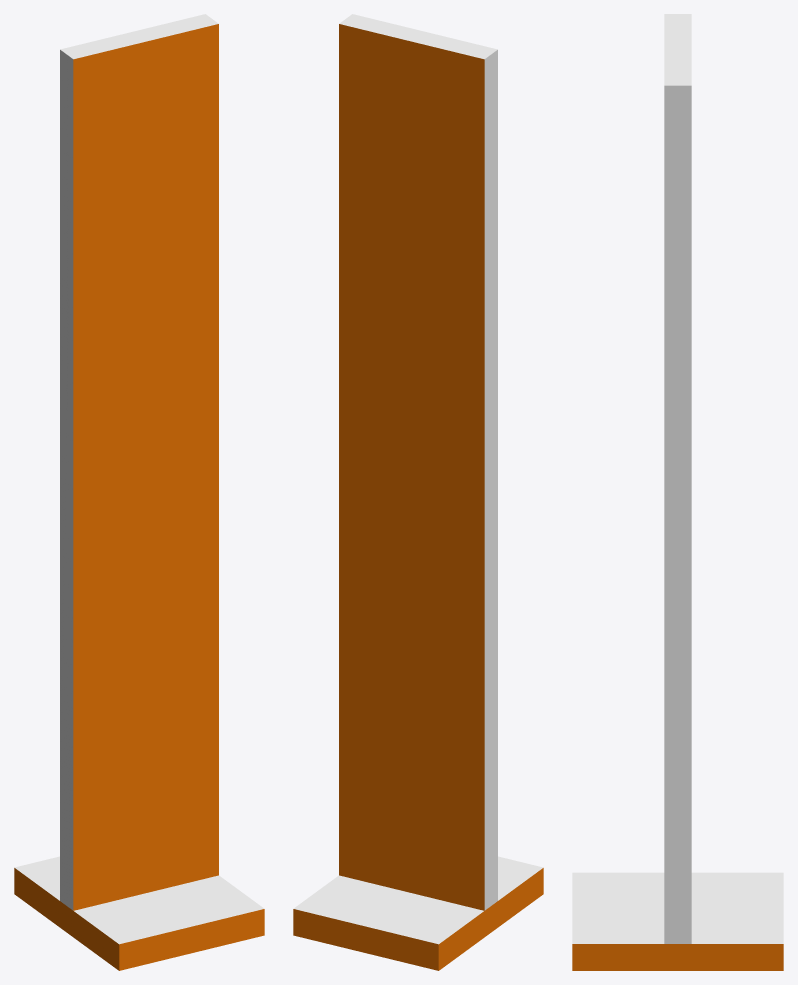
File: StripConeBase.fbx
3 views of the same model, side by side, from view 1: azimuth 30°, elevation 25°; view 2: azimuth 150°, elevation 25°; view 3: azimuth 270°, elevation 25° (orthographic).
Visible parts, largest first — view 1: StripCone, StripConeBase; view 2: StripCone, StripConeBase; view 3: StripCone, StripConeBase.
Boxes of the visible parts, x1,y1,x2,y2 form: StripCone: (60, 14, 218, 910); StripConeBase: (14, 856, 264, 970); StripCone: (339, 14, 497, 910); StripConeBase: (293, 856, 543, 970); StripCone: (664, 14, 691, 943); StripConeBase: (572, 872, 783, 970).
Bounding box in the file's own units: 11.38 × 65.64 × 14.21.
1 material, 1 textured.
